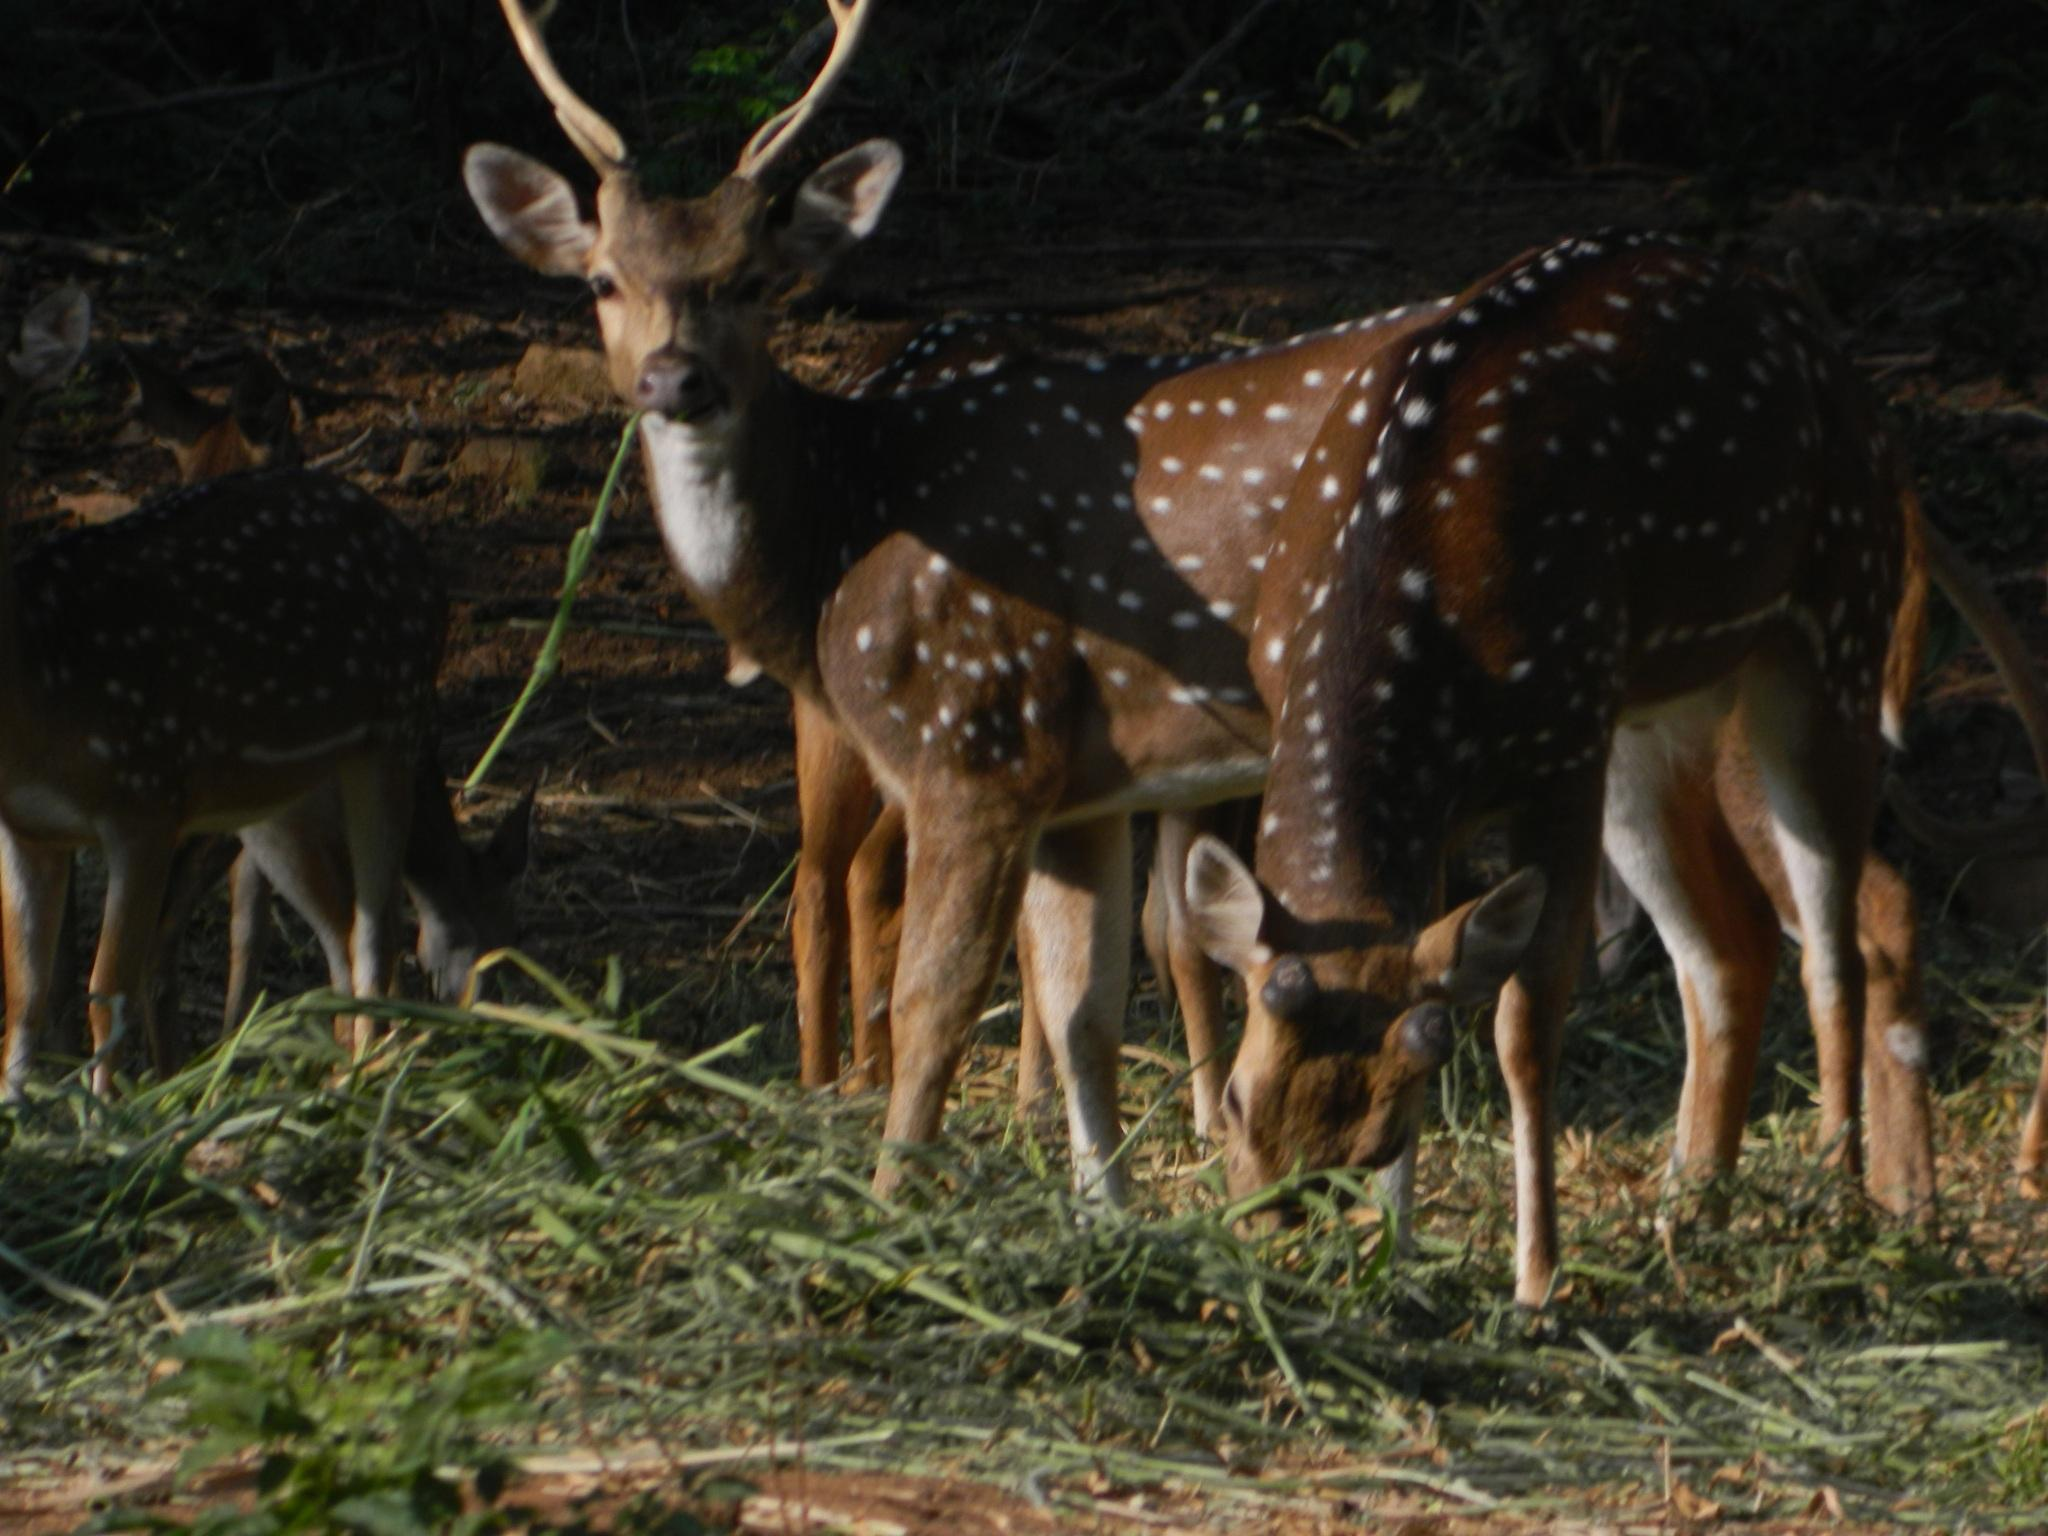Deer: (1184, 236, 1927, 1305), (0, 470, 447, 1094)
